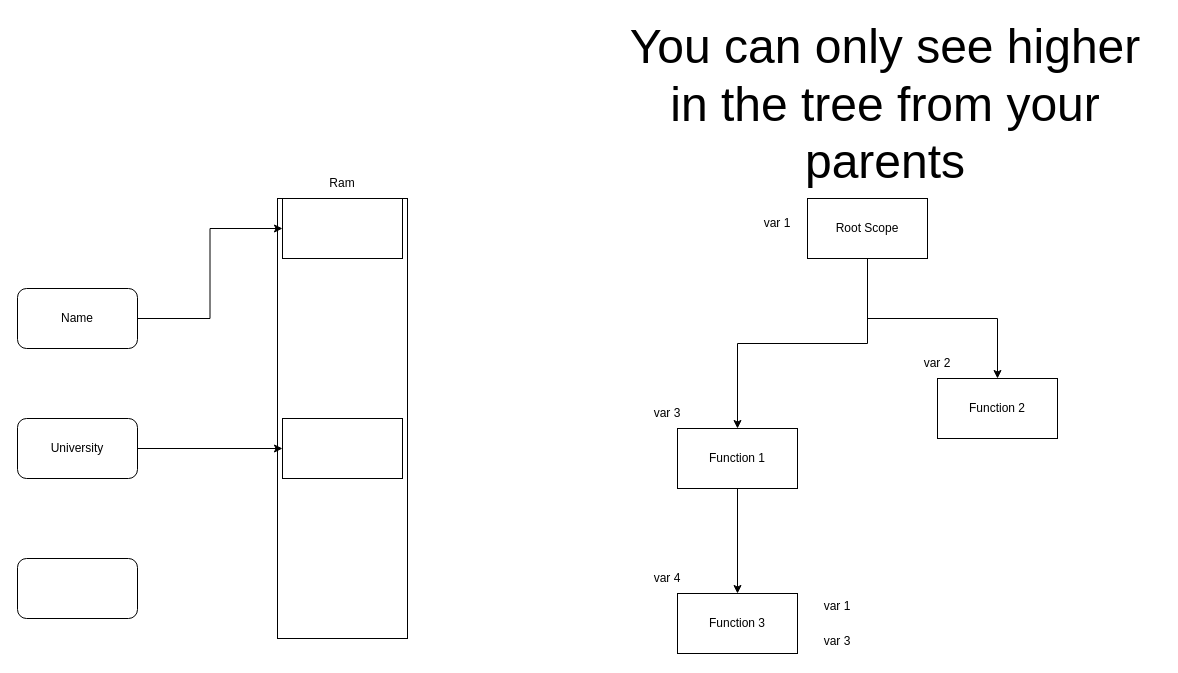
Image size: 1178x673. Some labels were removed from this diagram. Here are the shapes that lost their labels. From the top down, the centre of each, then its label:
[342,228]: String "Sadra"
[342,448]: null
[77,588]: Third leg
